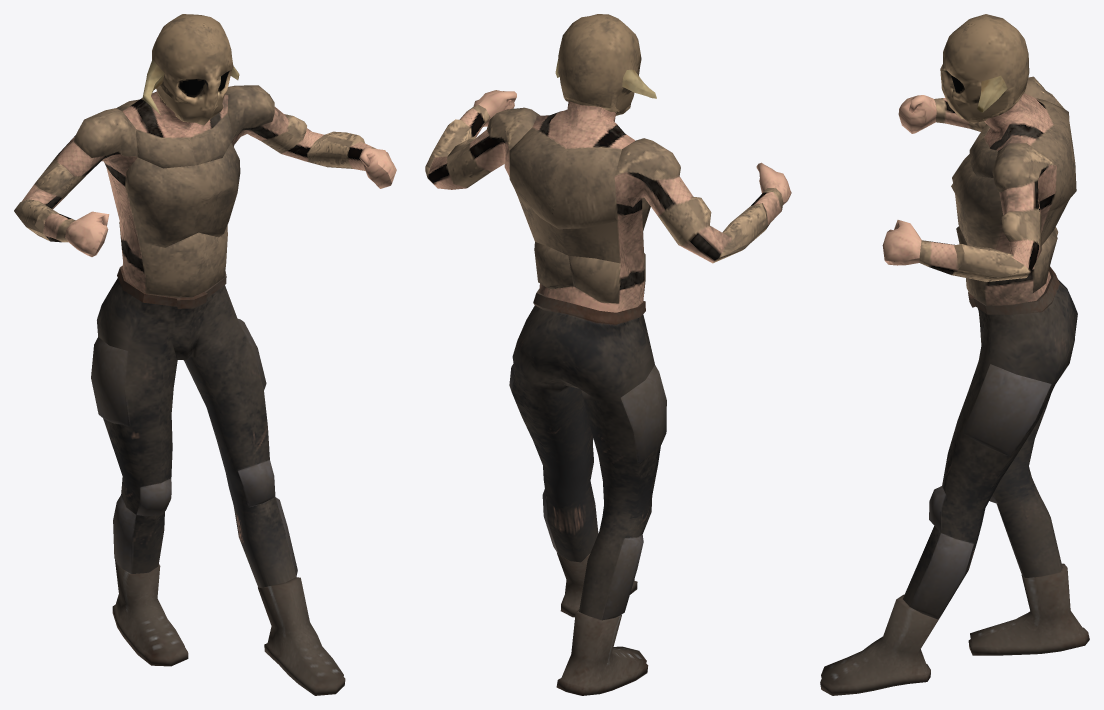
Rendered from Anim_ataque_d3_npc1.0049.obj.
The picture shows the model from 3 angles, left to right: view 1: azimuth 30°, elevation 25°; view 2: azimuth 150°, elevation 25°; view 3: azimuth 270°, elevation 25°; orthographic projection.
Parts seen in each view (by area): view 1: NPC2; view 2: NPC2; view 3: NPC2.
Part boxes in pixels (x1,y1,x2,y2): NPC2: (14,14,396,695); NPC2: (425,14,791,695); NPC2: (820,14,1089,695).
Bounding box in the file's own units: 5.07 × 9.5 × 3.61.
